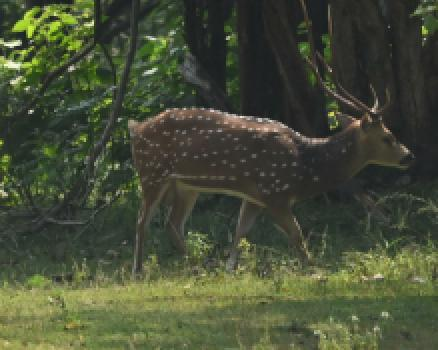Deer: (129, 51, 413, 272)
